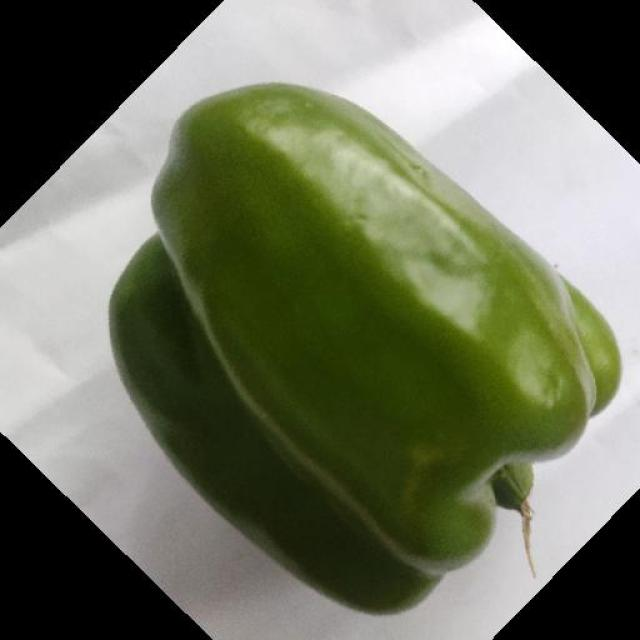Stale_Capsicum: (51, 179, 474, 624)
